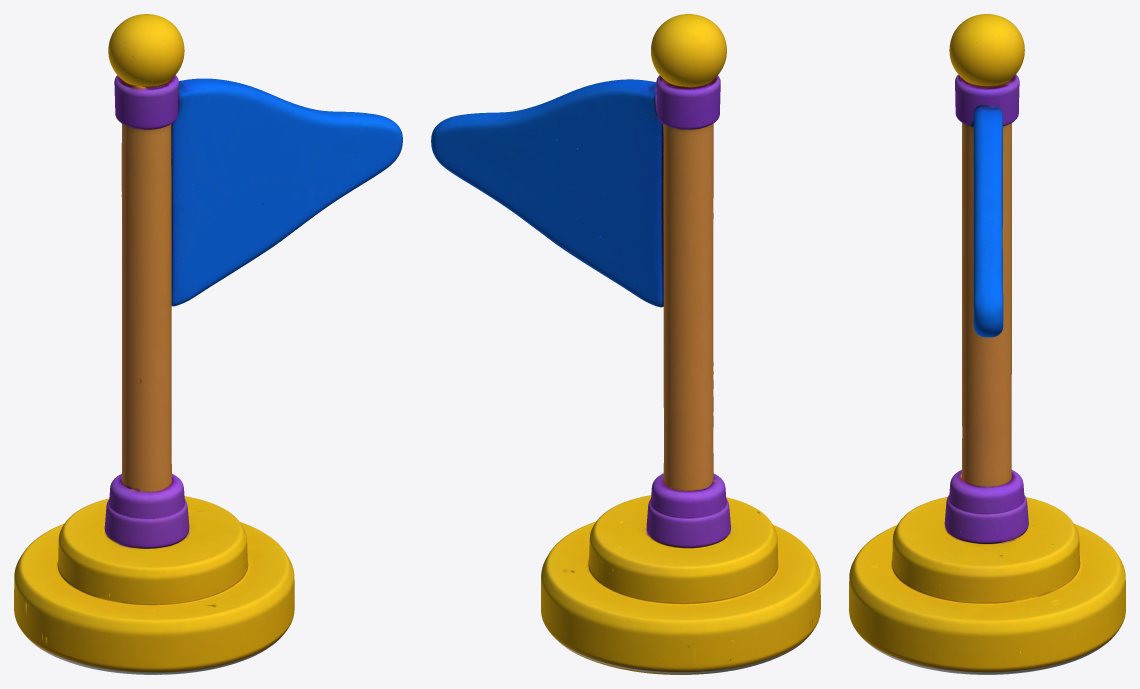
File: model-06-finish-flag.glb
3 views of the same model, side by side, from view 1: azimuth 30°, elevation 25°; view 2: azimuth 150°, elevation 25°; view 3: azimuth 270°, elevation 25° (orthographic).
Parts seen in each view (by area): view 1: node_0; view 2: node_0; view 3: node_0.
Boxes of the visible parts, x1,y1,x2,y2 form: node_0: (14,14,402,674); node_0: (431,14,820,674); node_0: (849,14,1125,674).
Bounding box in the file's own units: 0.6526 × 1.02 × 0.4287.
1 material, 1 textured.
